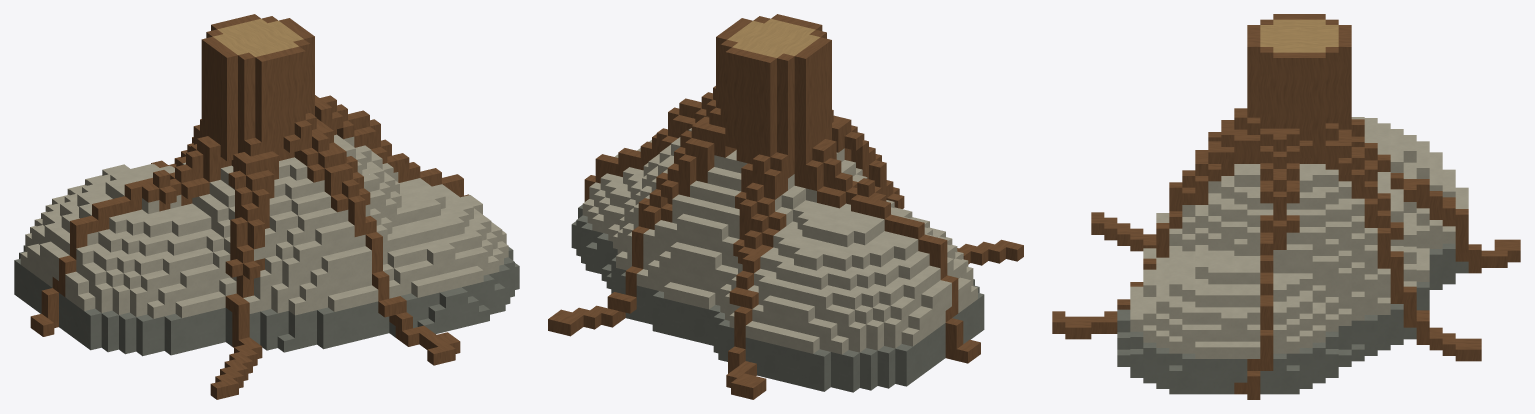
3 renders of one model, left to right at view 1: azimuth 30°, elevation 25°; view 2: azimuth 150°, elevation 25°; view 3: azimuth 270°, elevation 25°, orthographic. The views are drawn at different scales.
Visible parts, largest first — view 1: 乔木根脚与附岩根系视觉组件; view 2: 乔木根脚与附岩根系视觉组件; view 3: 乔木根脚与附岩根系视觉组件.
Boxes of the visible parts, x1=… form: 乔木根脚与附岩根系视觉组件: x1=14, y1=14, x2=519, y2=399; 乔木根脚与附岩根系视觉组件: x1=548, y1=14, x2=1023, y2=399; 乔木根脚与附岩根系视觉组件: x1=1052, y1=14, x2=1520, y2=399.
Size of the model in its own units: 7.6 by 4.4 by 7.2.
Materials: 4 (4 with a texture image).
